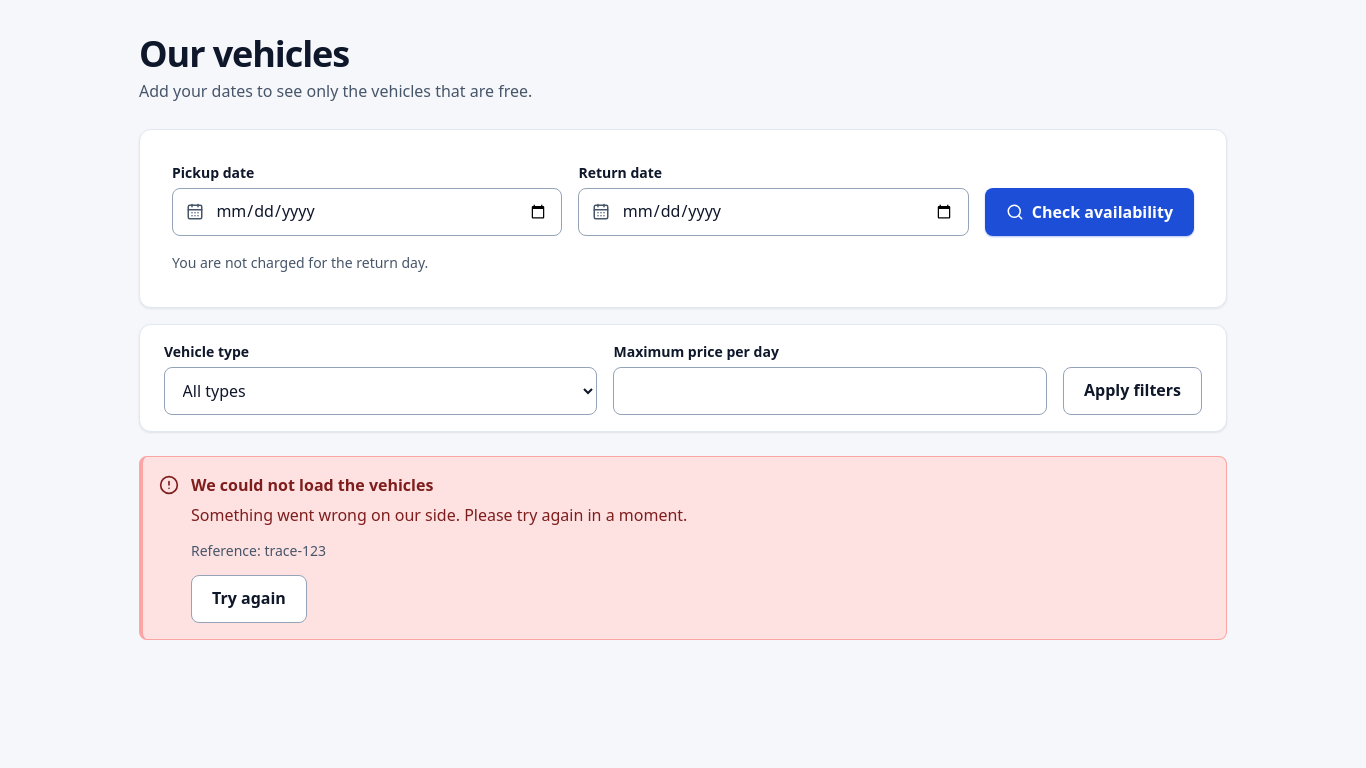
Test case: VehiclesPage › shows an error with a working retry
The image size is (1366, 768).
Expected: the message shows "We could not load the vehicles", [191,474,433,496]
Click the button "Try again" at (249, 598), box [191,574,307,622]
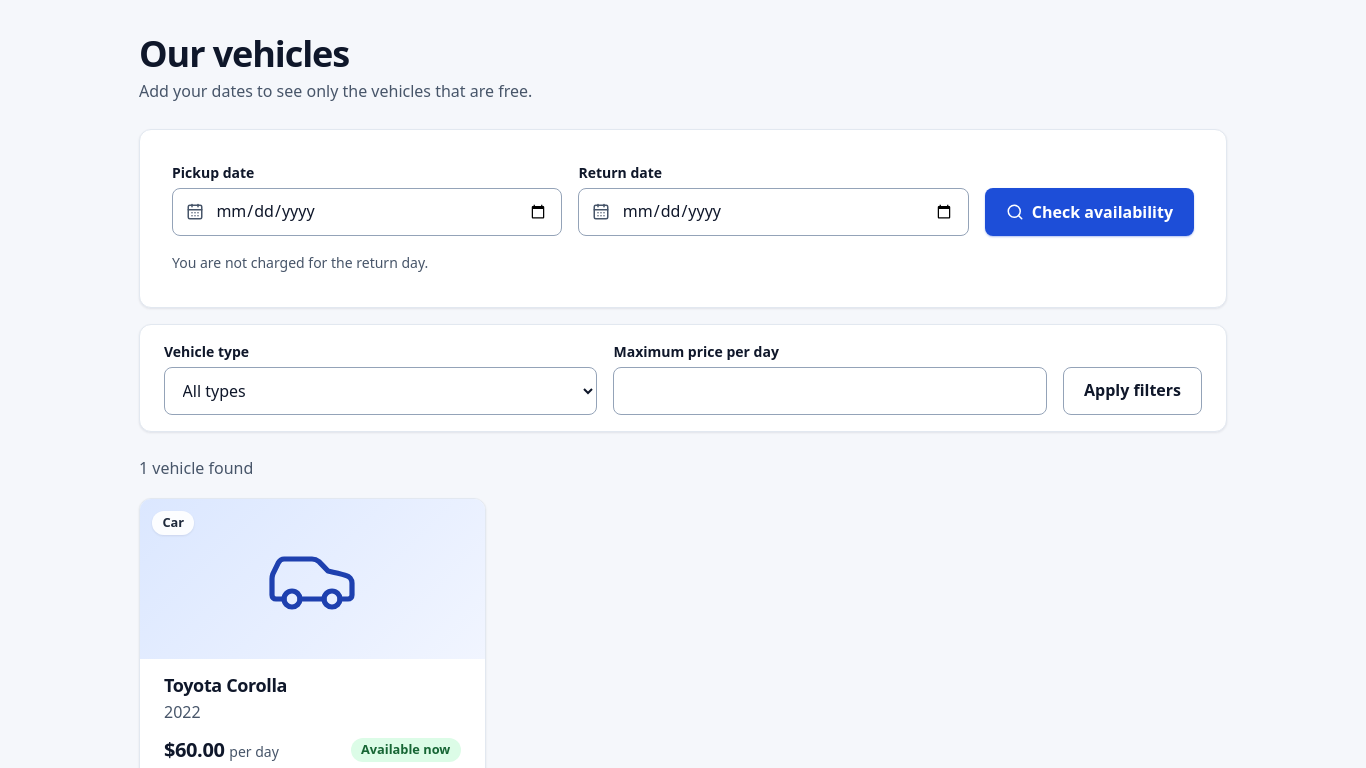
Result: the heading "Toyota Corolla" is shown at [164,672,287,696]
